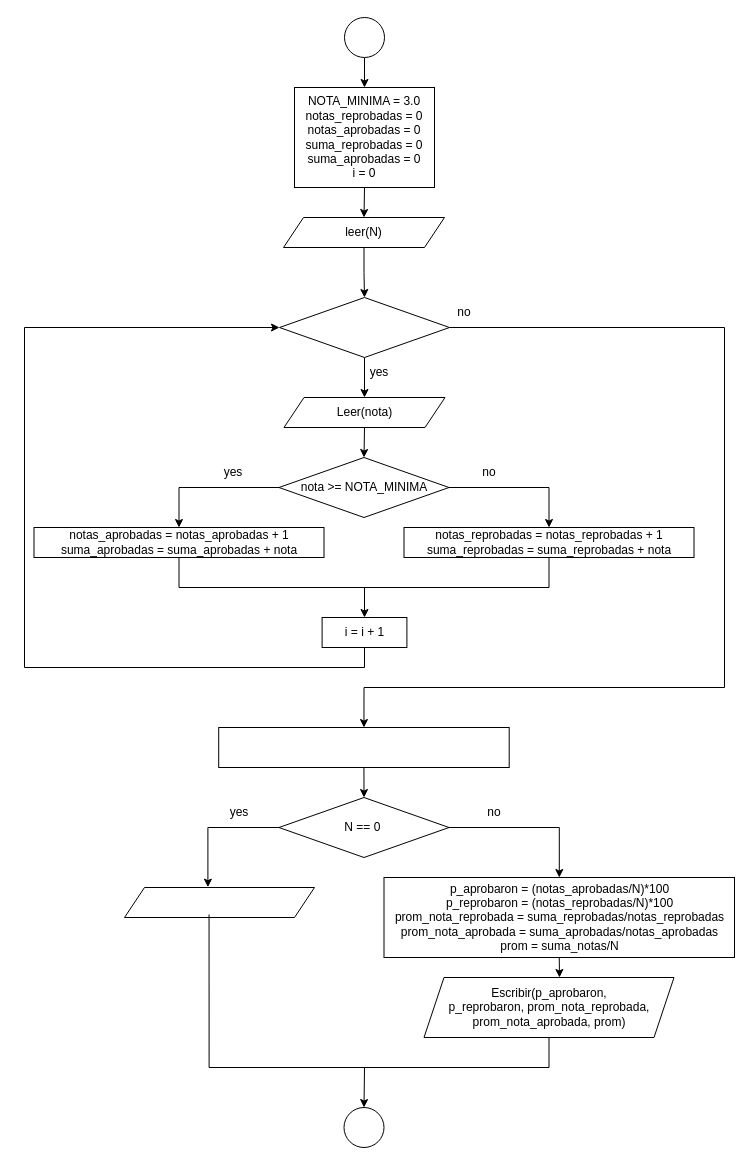
This 752x1165 diagram has some shape labels left out. Each missing label, with the centre of its shape:
"Escribir('No hay estudianes')" belongs at [219,902].
"Fin" belongs at [363,1127].
"i < N" belongs at [364,327].
"Inicio" belongs at [364,37].
"suma_notas = suma_reprobadas + suma_aprobadas" belongs at [363,747].
